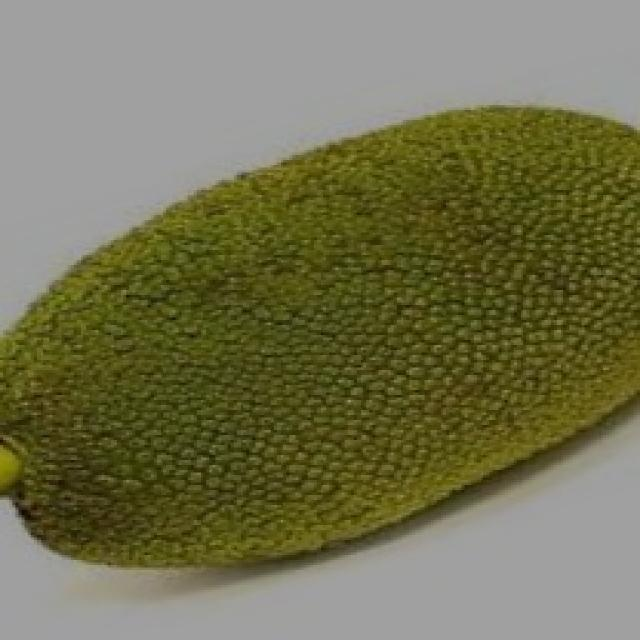Fruit: (237, 82, 640, 482), (0, 218, 391, 620)
